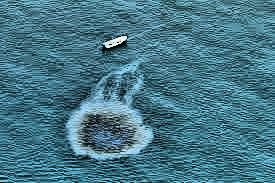sheen: (67, 98, 153, 159)
